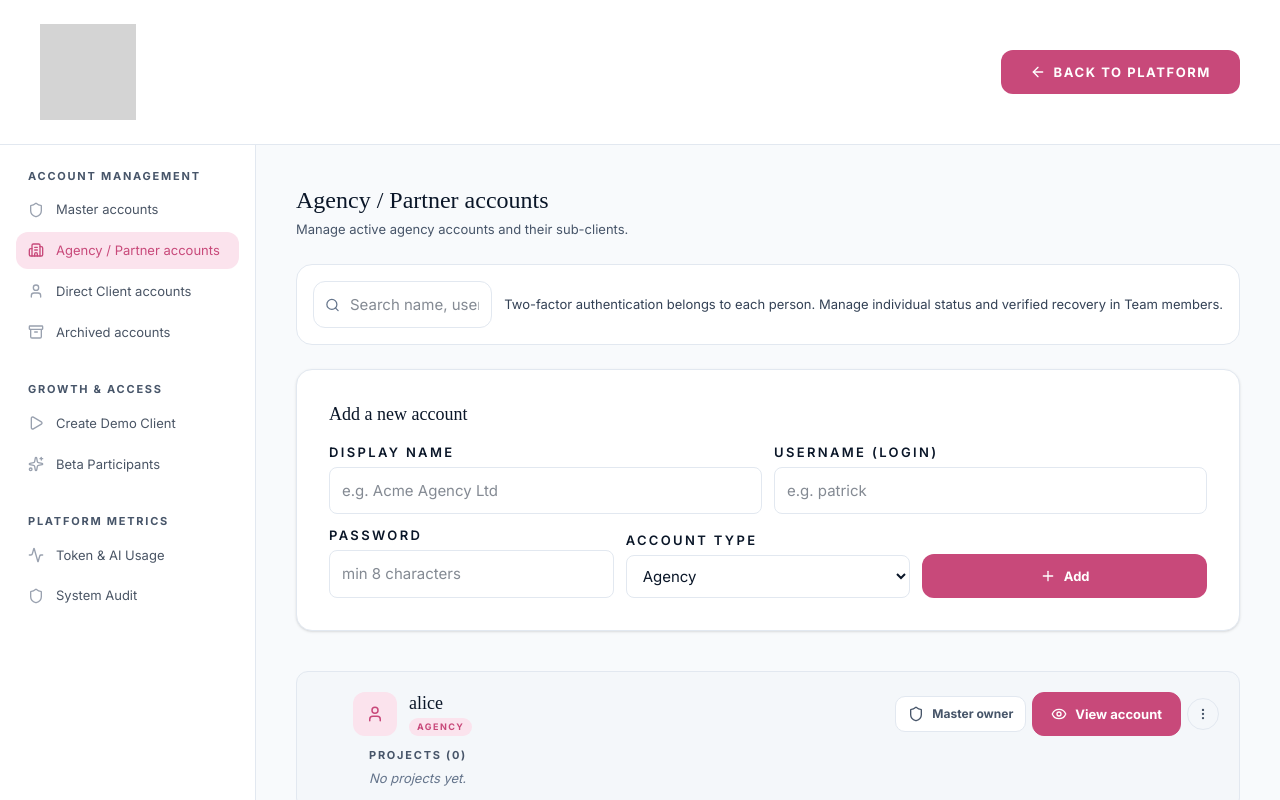
Test: UsersAdminPage - workspace lists do not imply personal MFA › keeps active workspace rows regardless of cached MFA
Check: the text "alice" is shown, box [409,693,443,713]
Click the button "Archived accounts": (128, 332) [16,314,239,350]
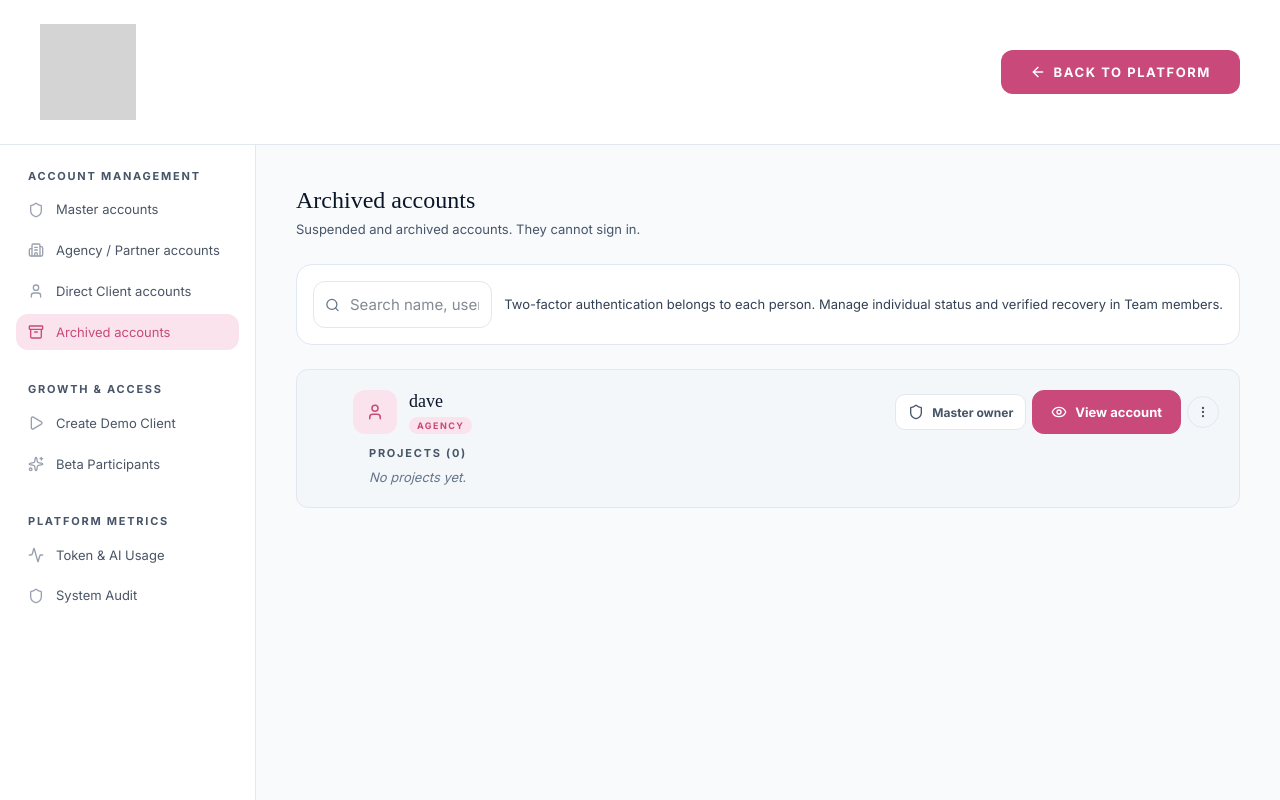
Check: the text "dave" is shown, box [409,391,443,411]
